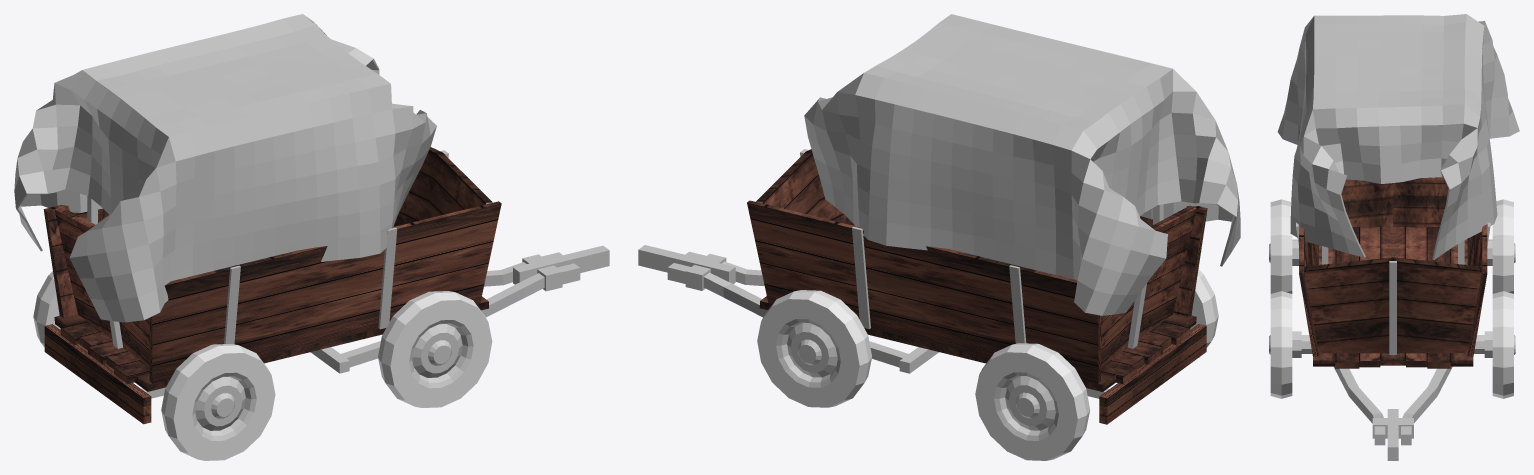
File: carroça normal.fbx
The picture shows the model from 3 angles, left to right: view 1: azimuth 30°, elevation 25°; view 2: azimuth 150°, elevation 25°; view 3: azimuth 270°, elevation 25°; orthographic projection. The views are drawn at different scales.
Parts seen in each view (by area): view 1: carroca; view 2: carroca; view 3: carroca.
Boxes of the visible parts, box(x1,y1,x2,y2) form: carroca: box(14, 14, 609, 460); carroca: box(638, 14, 1240, 460); carroca: box(1269, 14, 1519, 460).
Size of the model in its own units: 425 by 231 by 189.
